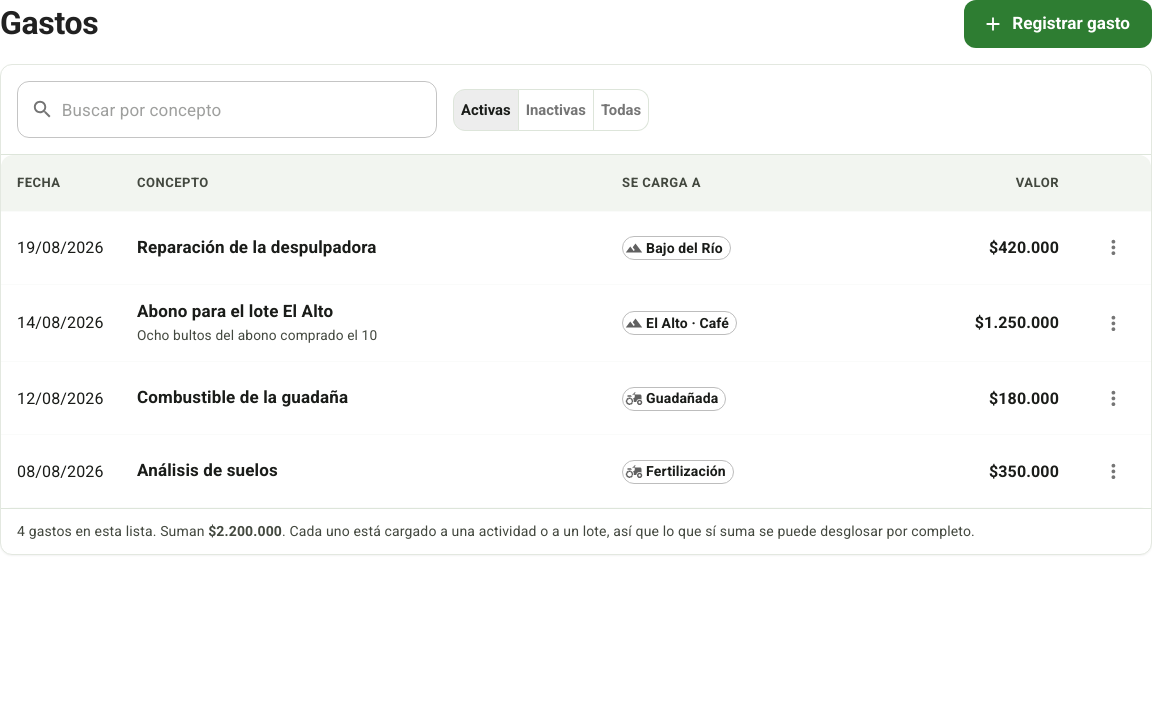
ExpensesPage — the form before the lists arrive › opens «Registrar gasto» even while activities and lotes are still loading
Step 1. Click the button "Registrar gasto" → (1058, 24), box [964,0,1151,48]
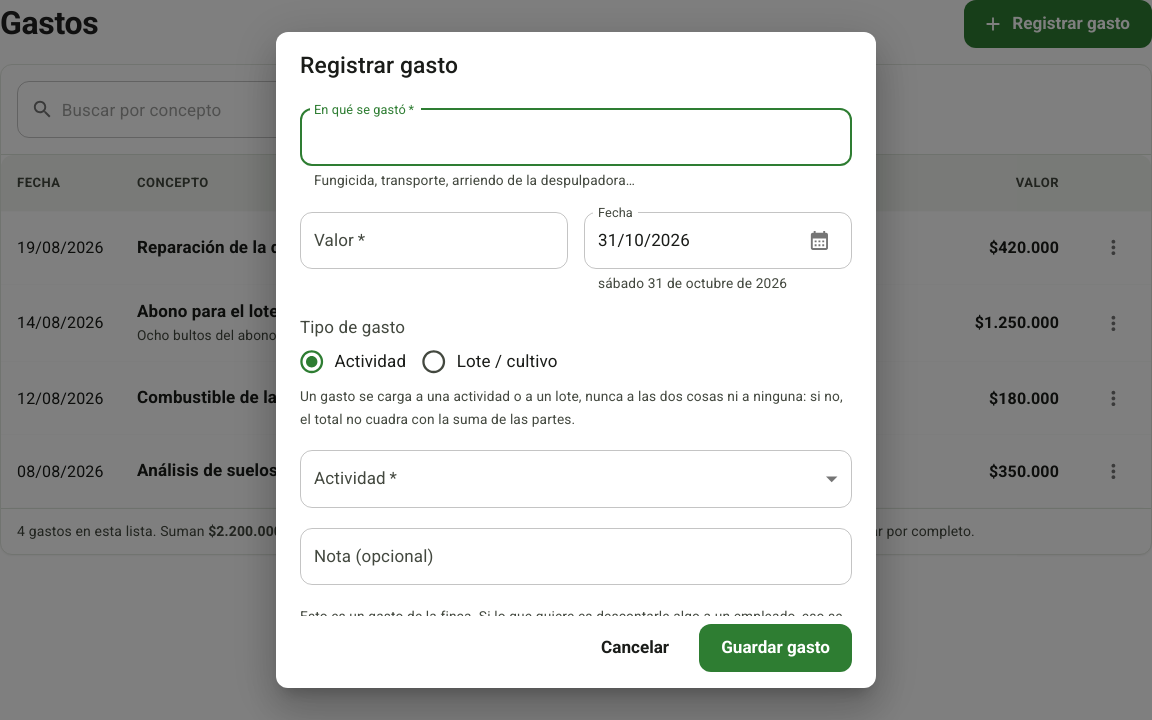
Result: the heading "Registrar gasto" is shown at [300,52,458,79]
